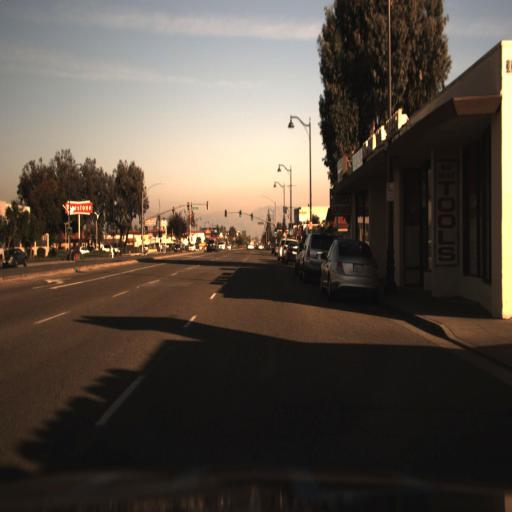car: (317, 235, 377, 296), (298, 227, 333, 288), (4, 247, 28, 272)
